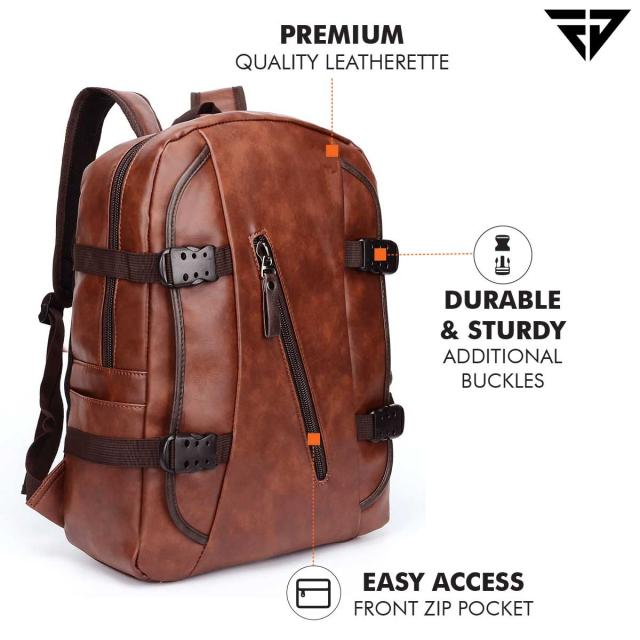backpack: (22, 85, 405, 584)
